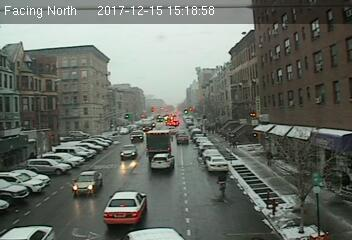bicycle: (214, 173, 228, 202)
car: (103, 191, 147, 226), (70, 170, 102, 195), (205, 157, 230, 173), (150, 153, 174, 169), (119, 145, 139, 159), (176, 133, 188, 143)
pedestrian: (266, 148, 272, 166)
truck: (146, 129, 170, 152)
